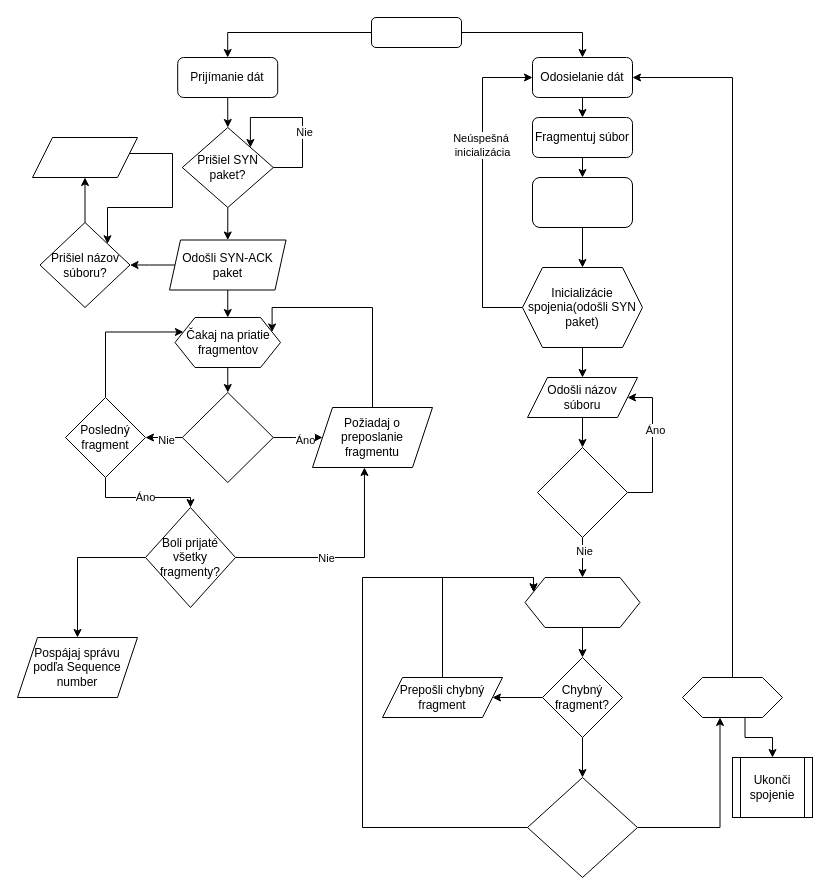
This 830x895 diagram has some shape labels left out. Here are the shapes that lost their labels. From the top down, the centre of each, then its label:
At point 416,32: "Štart".
At point 85,157: "Odošli NACK packet".
At point 582,202: "Každému fragmentu priraď hlavičku".
At point 227,437: "Chyba vo fragmente?".
At point 582,492: "Bol prijantý NACK paket".
At point 582,602: "Odosielaj fragmenty".
At point 732,697: "Keep - Alive".
At point 582,827: "Odoslané všetky fragmenty?".
